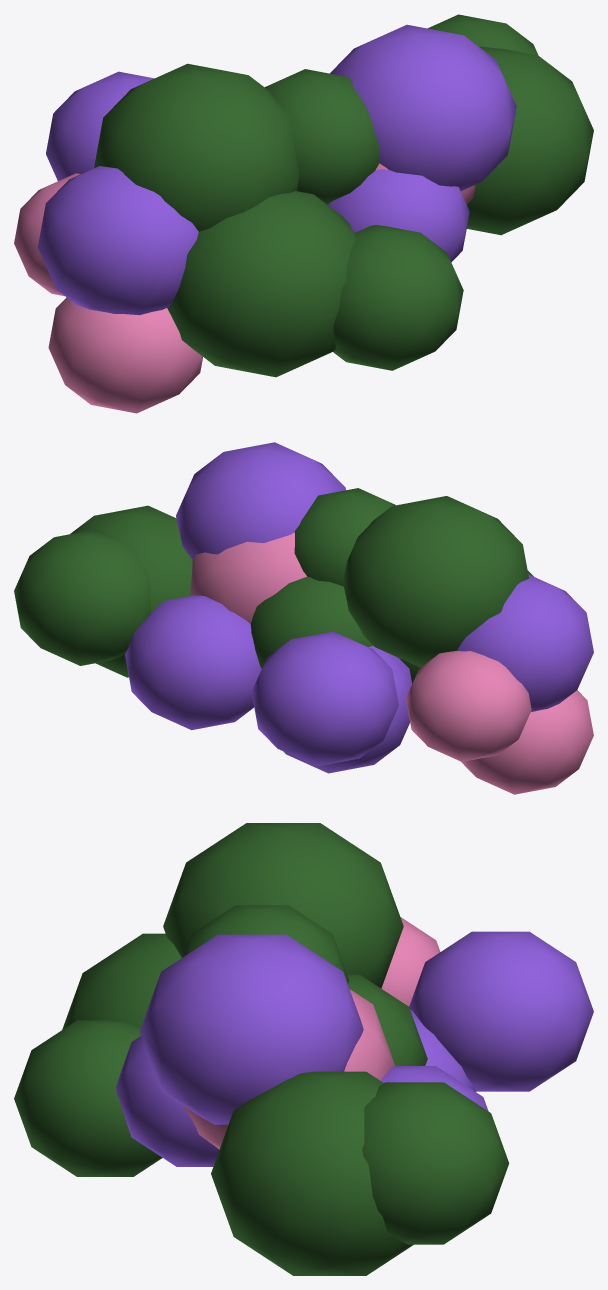
Rendered from buisson_toundra_2.glb.
3 views of the same model, one above another, from view 1: azimuth 30°, elevation 25°; view 2: azimuth 150°, elevation 25°; view 3: azimuth 270°, elevation 25° (orthographic). The views are drawn at different scales.
Parts seen in each view (by area): view 1: bruyere_feuille_sombre.002, bruyere_violet.002, bruyere_rose.002; view 2: bruyere_violet.002, bruyere_feuille_sombre.002, bruyere_rose.002; view 3: bruyere_feuille_sombre.002, bruyere_violet.002, bruyere_rose.002.
Part boxes in pixels (bbox=[...]): bruyere_feuille_sombre.002: bbox=[94, 14, 593, 377]; bruyere_violet.002: bbox=[37, 24, 516, 315]; bruyere_rose.002: bbox=[14, 163, 475, 413]; bruyere_violet.002: bbox=[125, 442, 593, 773]; bruyere_feuille_sombre.002: bbox=[14, 488, 533, 683]; bruyere_rose.002: bbox=[190, 532, 593, 794]; bruyere_feuille_sombre.002: bbox=[14, 823, 509, 1275]; bruyere_violet.002: bbox=[116, 931, 593, 1166]; bruyere_rose.002: bbox=[183, 917, 440, 1149].
Bounding box in the file's own units: 0.4957 × 0.2586 × 0.4041.
